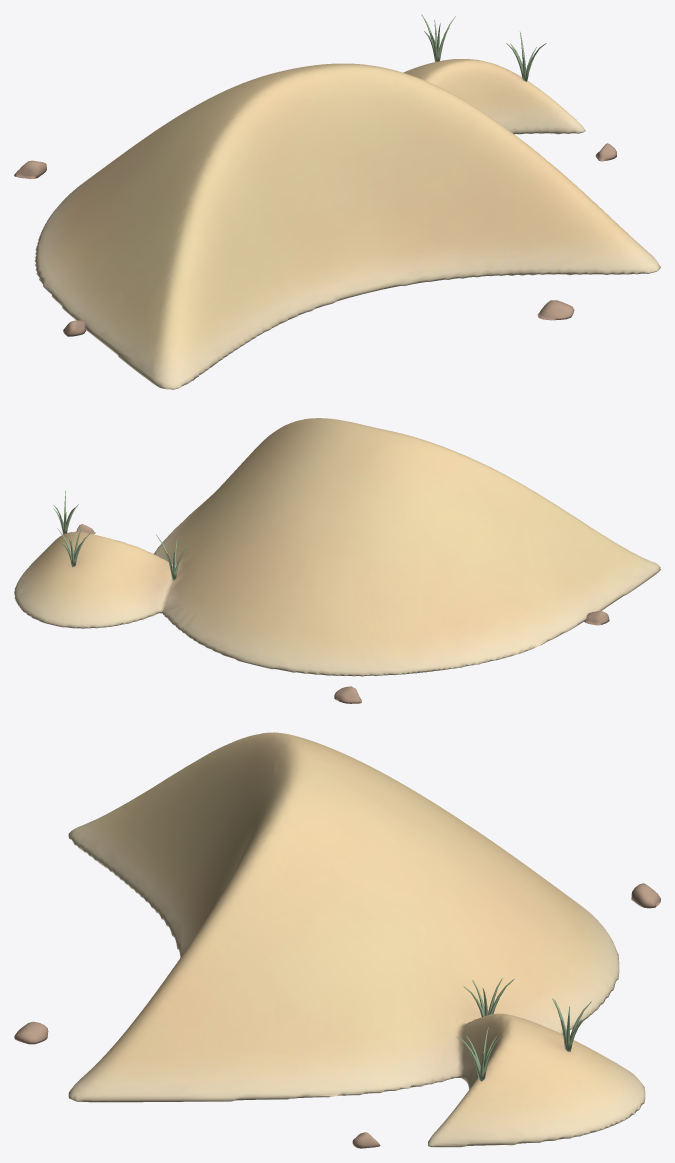
Rendered from deserto-duna.glb.
3 renders of one model, top to bottom at view 1: azimuth 30°, elevation 25°; view 2: azimuth 150°, elevation 25°; view 3: azimuth 270°, elevation 25°, orthographic. The views are drawn at different scales.
Visible parts, largest first — view 1: sand-dune_body; view 2: sand-dune_body; view 3: sand-dune_body.
Boxes of the visible parts, bbox=[...] form: sand-dune_body: bbox=[14, 14, 660, 389]; sand-dune_body: bbox=[14, 418, 660, 703]; sand-dune_body: bbox=[14, 732, 660, 1148].
Size of the model in its own units: 6 by 1.78 by 5.04.
1 material, 1 textured.
